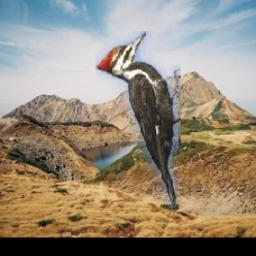Woodpecker: (95, 31, 181, 217)
